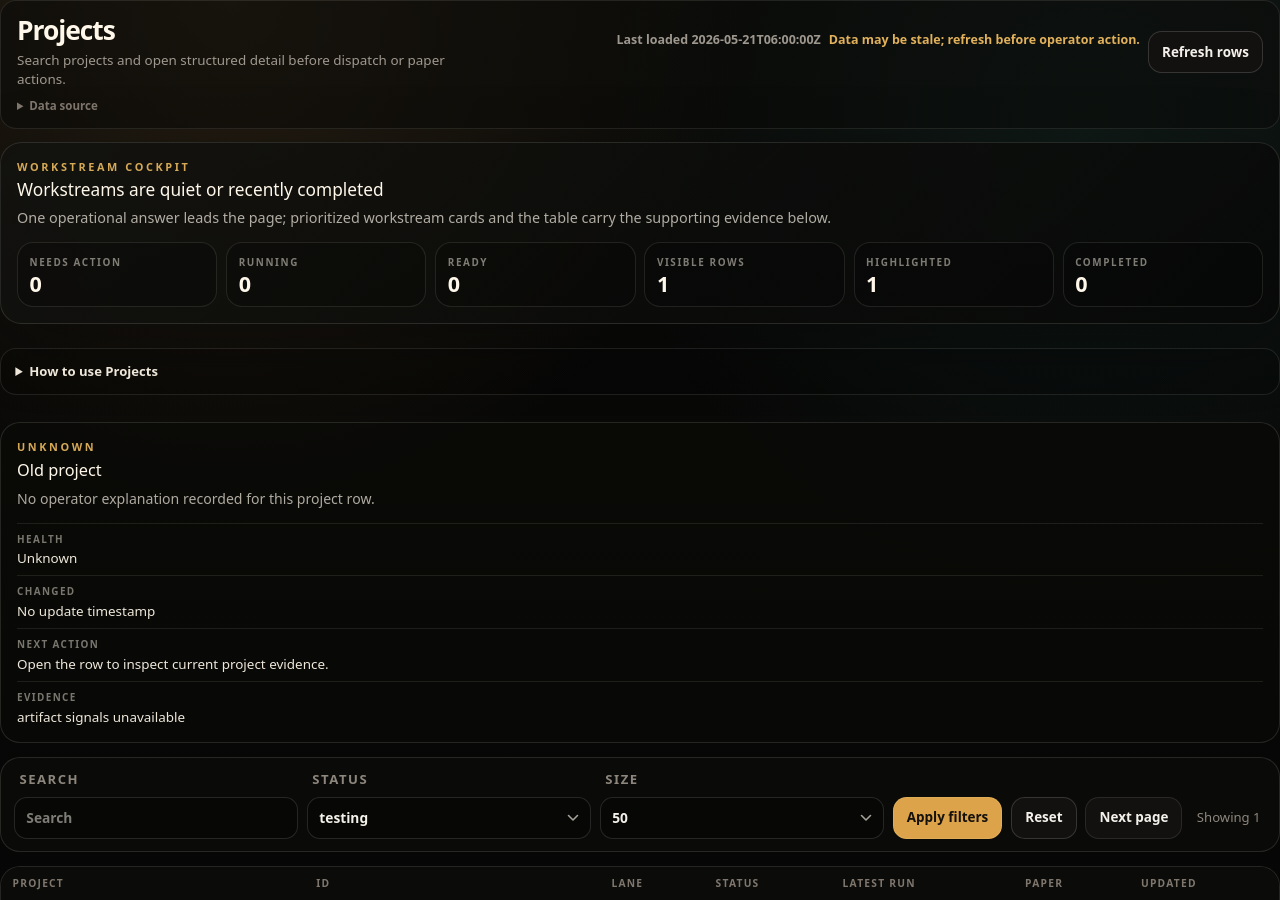
Test: refreshes project rows explicitly from the V2 page
Click the button "Refresh rows": (1205, 52) left=1148, top=31, right=1263, bottom=73
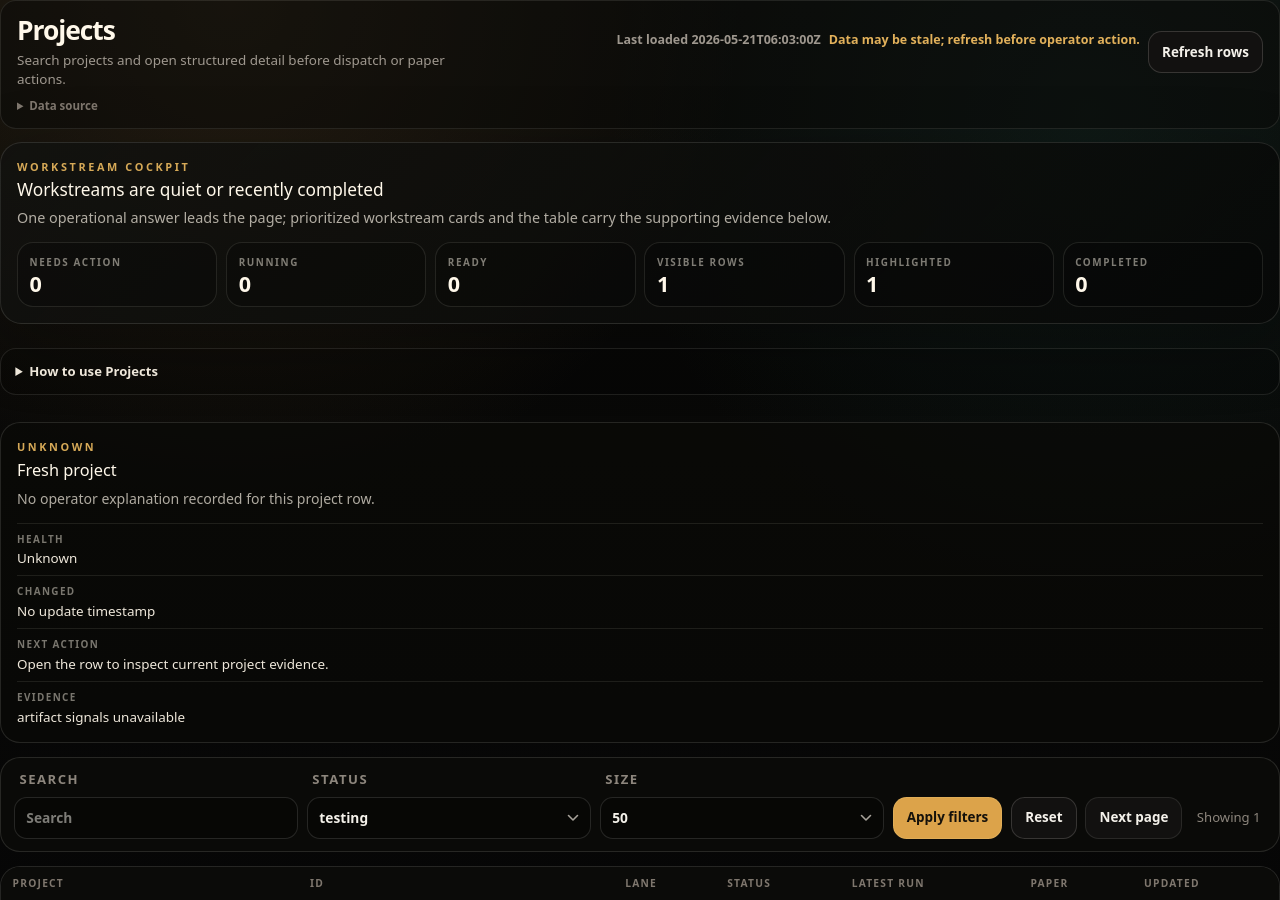
Now the text "Last loaded 2026-05-21T06:03:00Z" is shown, box left=616, top=31, right=821, bottom=48
